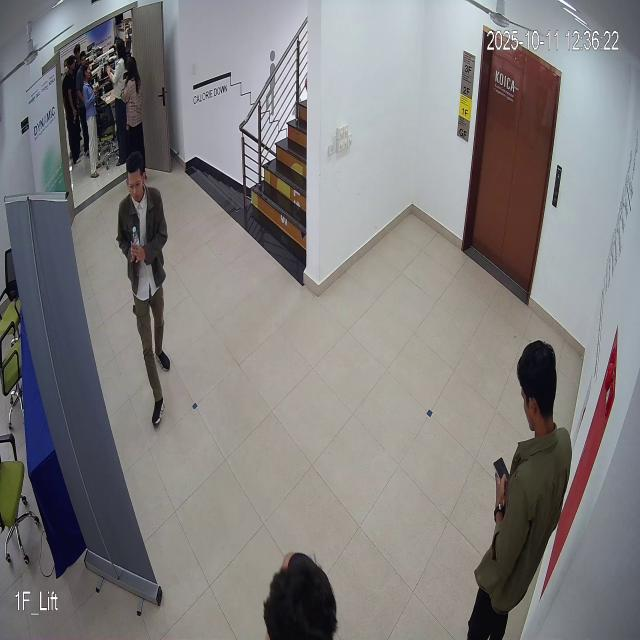face: (125, 144, 154, 206)
